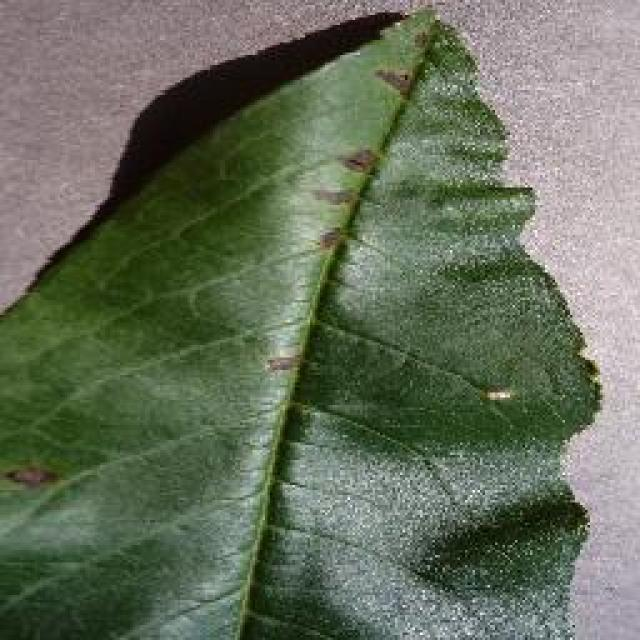Peach_Bacterial_Spot: (182, 90, 536, 480)
